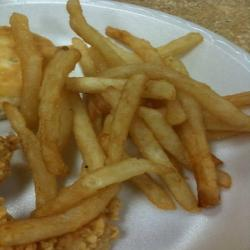fries: (7, 28, 219, 225)
